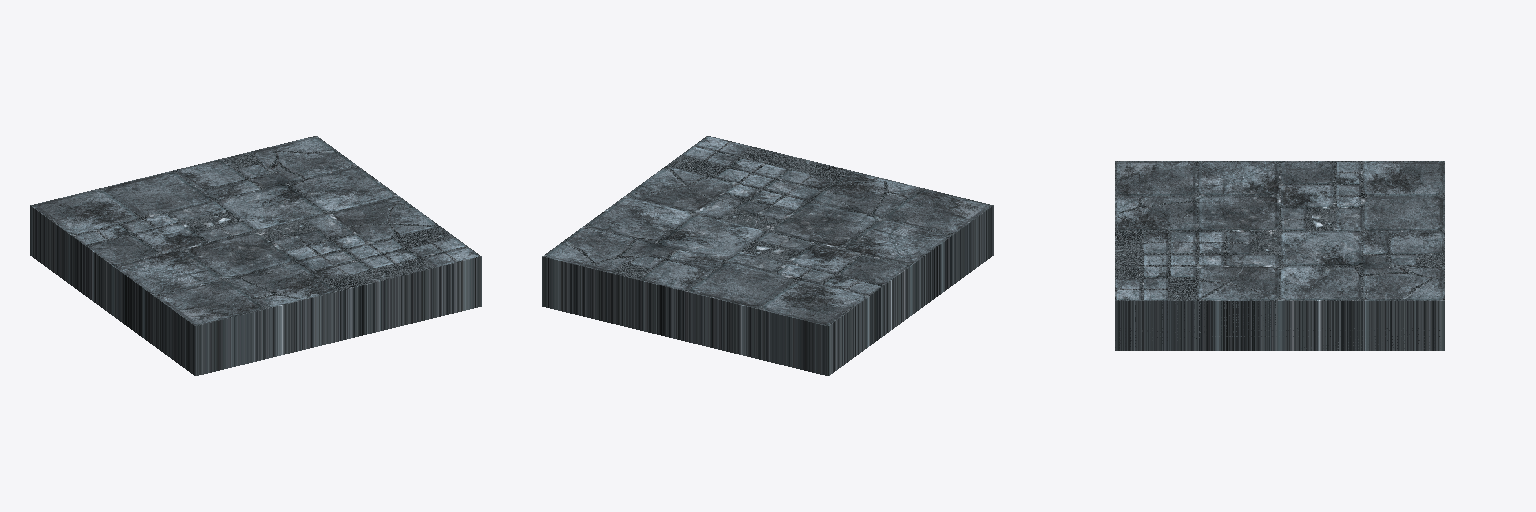
3 renders of one model, left to right at view 1: azimuth 30°, elevation 25°; view 2: azimuth 150°, elevation 25°; view 3: azimuth 270°, elevation 25°, orthographic.
Visible parts, largest first — view 1: Floor; view 2: Floor; view 3: Floor.
Part boxes in pixels (bbox=[...]): Floor: bbox=[30, 136, 481, 375]; Floor: bbox=[542, 136, 993, 375]; Floor: bbox=[1115, 161, 1444, 350].
Bounding box in the file's own units: 3 × 0.5 × 3.
Materials: 1 (1 with a texture image).